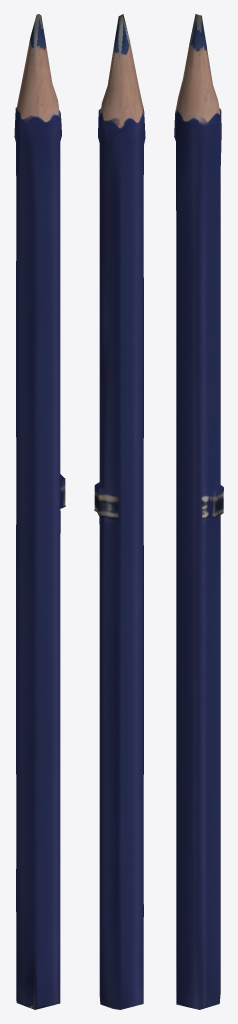
Rendered from pencil+3d+model.fbx.
3 renders of one model, left to right at view 1: azimuth 30°, elevation 25°; view 2: azimuth 210°, elevation 25°; view 3: azimuth 330°, elevation 25°, orthographic.
Visible parts, largest first — view 1: tripo_node_52436e9b; view 2: tripo_node_52436e9b; view 3: tripo_node_52436e9b.
Boxes of the visible parts, left/top/right/bottom form: tripo_node_52436e9b: left=14, top=14, right=65, bottom=1009; tripo_node_52436e9b: left=94, top=14, right=145, bottom=1009; tripo_node_52436e9b: left=174, top=14, right=223, bottom=1009.
Bounding box in the file's own units: 0.0487 × 1 × 0.0422.
1 material, 1 textured.
